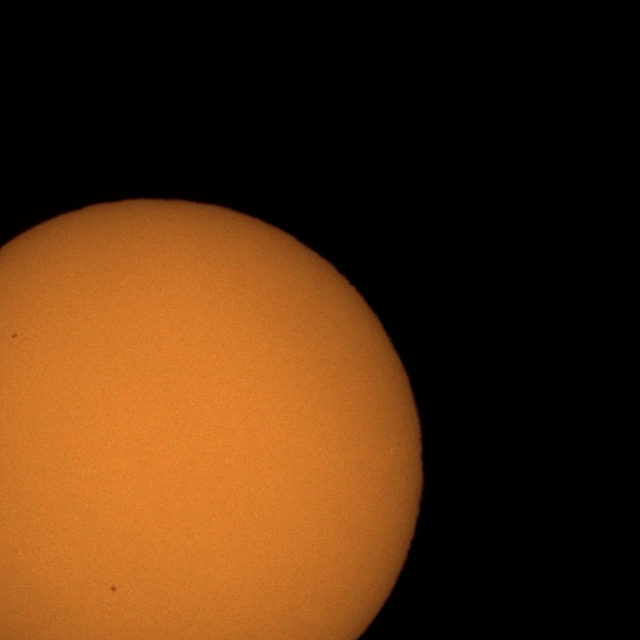sunspot: (108, 582, 118, 594), (11, 332, 17, 340)
